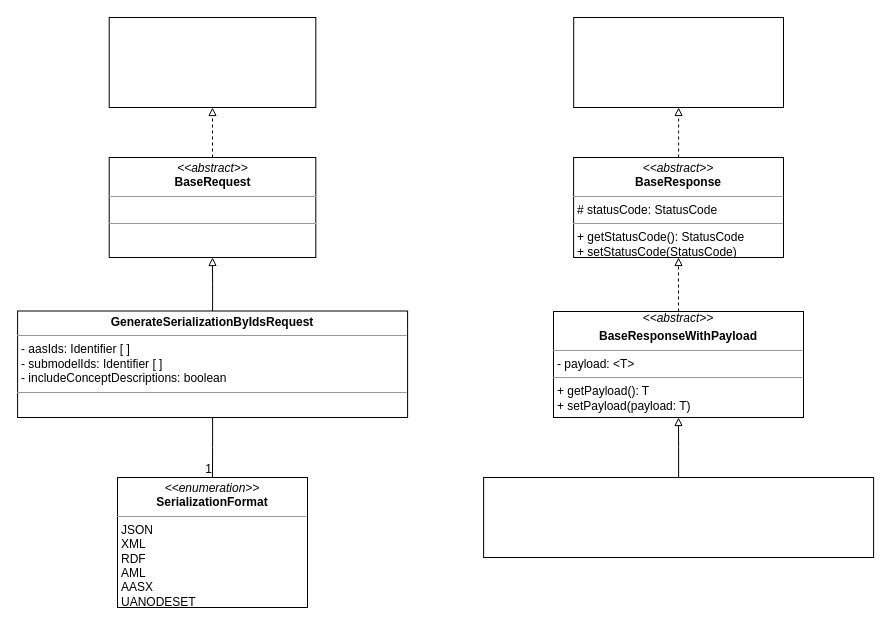
Some shapes in this 891 by 625 pixel diagram are drawn without their labels. Each missing label, with the centre of its shape:
<<Interface>> Request: point 212,62
<<Interface>> Response: point 678,62
GenerateSerializationByIDsResponse - payload: AssetAdministrationShell [ ]: point 678,517
